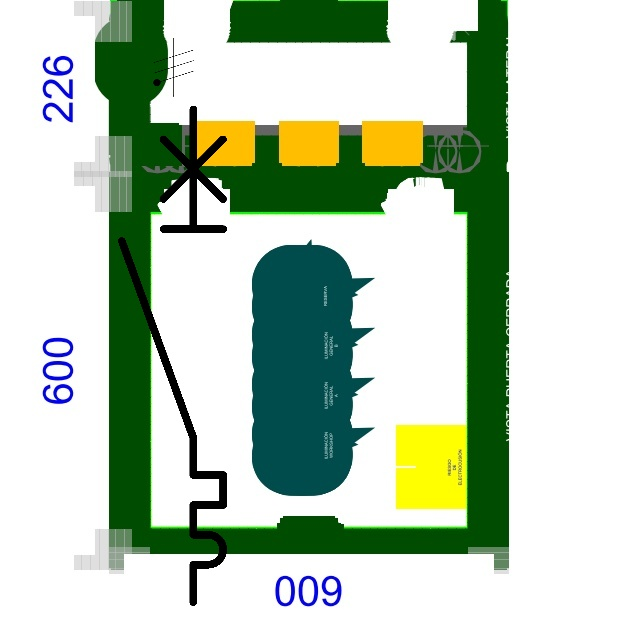interruptor_termomagnetico: (109, 96, 236, 614)
